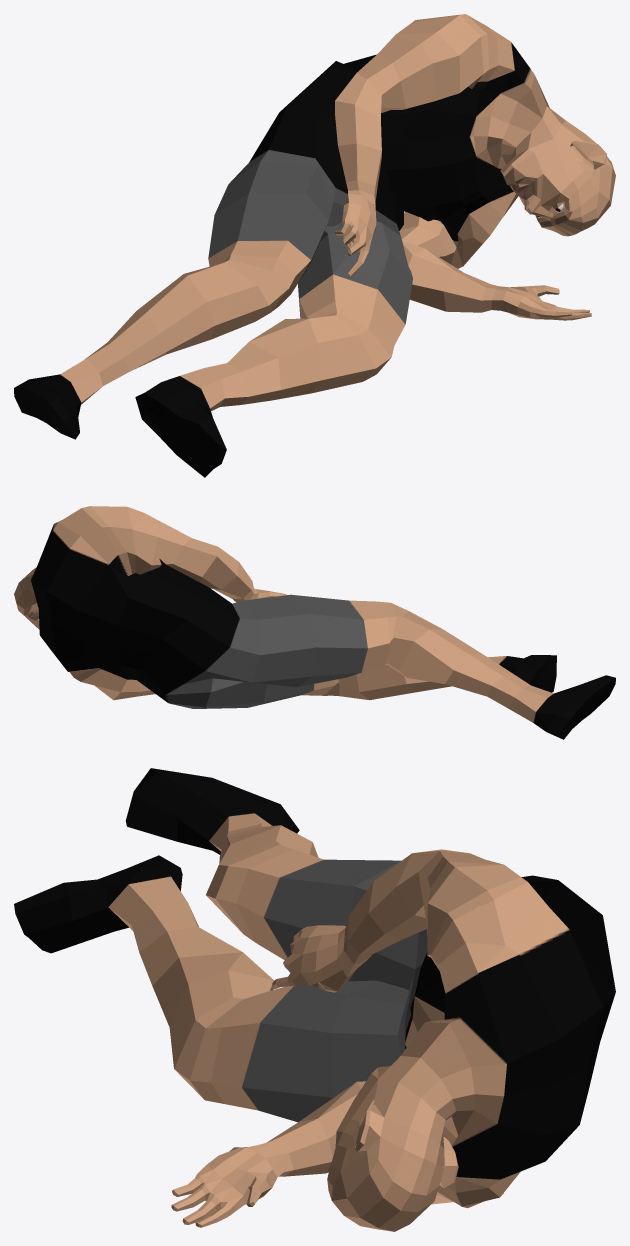
Rendered from PlayerDead(80).obj.
3 views of the same model, one above another, from view 1: azimuth 30°, elevation 25°; view 2: azimuth 150°, elevation 25°; view 3: azimuth 270°, elevation 25° (orthographic). The views are drawn at different scales.
Parts seen in each view (by area): view 1: Plane002; view 2: Plane002; view 3: Plane002.
Part boxes in pixels (<box>): Plane002: <box>14,14,615,477</box>; Plane002: <box>14,506,615,739</box>; Plane002: <box>14,768,615,1231</box>.
Bounding box in the file's own units: 1567 × 564 × 899.
